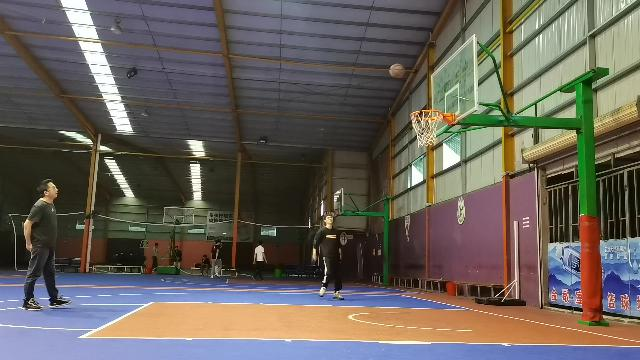ball: (388, 63, 404, 79)
basket: (410, 109, 444, 147)
